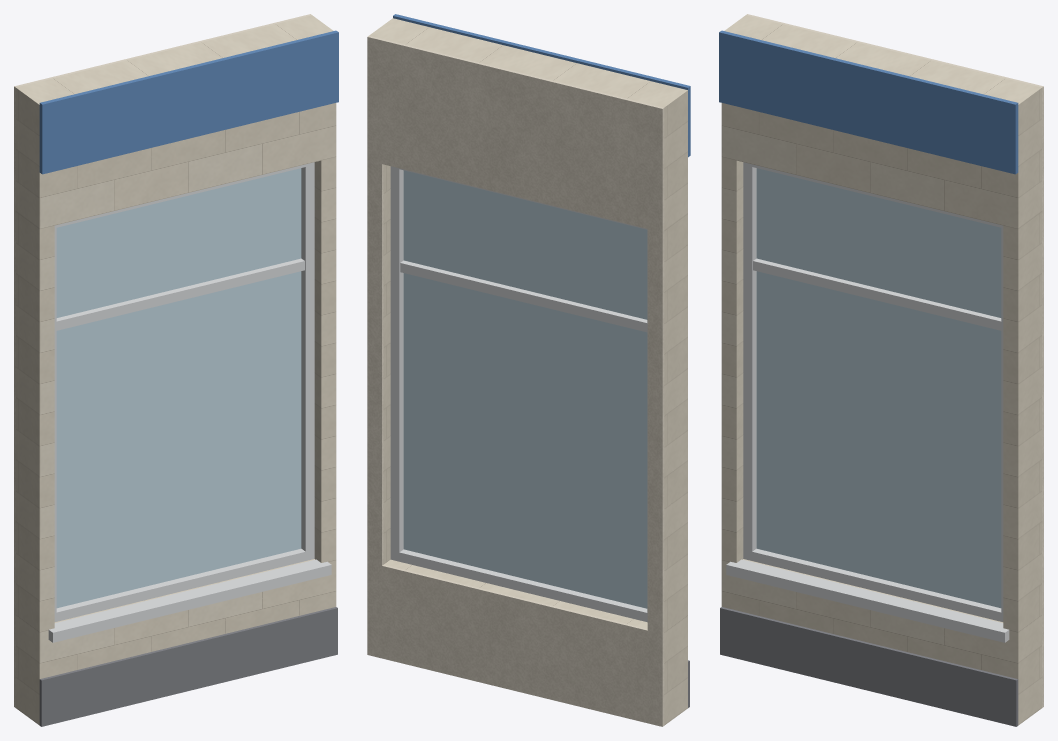
File: wall_store_storefront.glb
The picture shows the model from 3 angles, left to right: view 1: azimuth 30°, elevation 25°; view 2: azimuth 150°, elevation 25°; view 3: azimuth 330°, elevation 25°; orthographic projection.
Visible parts, largest first — view 1: wall_store_storefront_glass, wall_store_storefront_block, wall_store_storefront_band, wall_store_storefront_alu, wall_store_storefront_dark, wall_store_storefront_plaster; view 2: wall_store_storefront_glass, wall_store_storefront_plaster, wall_store_storefront_block, wall_store_storefront_alu, wall_store_storefront_band; view 3: wall_store_storefront_glass, wall_store_storefront_block, wall_store_storefront_band, wall_store_storefront_alu, wall_store_storefront_dark, wall_store_storefront_plaster.
Boxes of the visible parts, <box> form: wall_store_storefront_glass: <box>56,168,301,608</box>; wall_store_storefront_block: <box>16,15,336,725</box>; wall_store_storefront_band: <box>39,30,338,174</box>; wall_store_storefront_alu: <box>48,162,331,642</box>; wall_store_storefront_dark: <box>39,607,337,726</box>; wall_store_storefront_plaster: <box>14,14,311,707</box>; wall_store_storefront_glass: <box>403,170,647,608</box>; wall_store_storefront_plaster: <box>367,35,664,726</box>; wall_store_storefront_block: <box>369,18,687,725</box>; wall_store_storefront_alu: <box>390,166,647,622</box>; wall_store_storefront_band: <box>393,14,690,157</box>; wall_store_storefront_glass: <box>756,168,1001,608</box>; wall_store_storefront_block: <box>721,15,1041,725</box>; wall_store_storefront_band: <box>719,30,1018,174</box>; wall_store_storefront_alu: <box>726,162,1009,642</box>; wall_store_storefront_dark: <box>720,607,1018,726</box>; wall_store_storefront_plaster: <box>746,14,1043,707</box>.
Bounding box in the file's own units: 2 × 4.01 × 0.35.
Materials: 6 (2 with a texture image).
